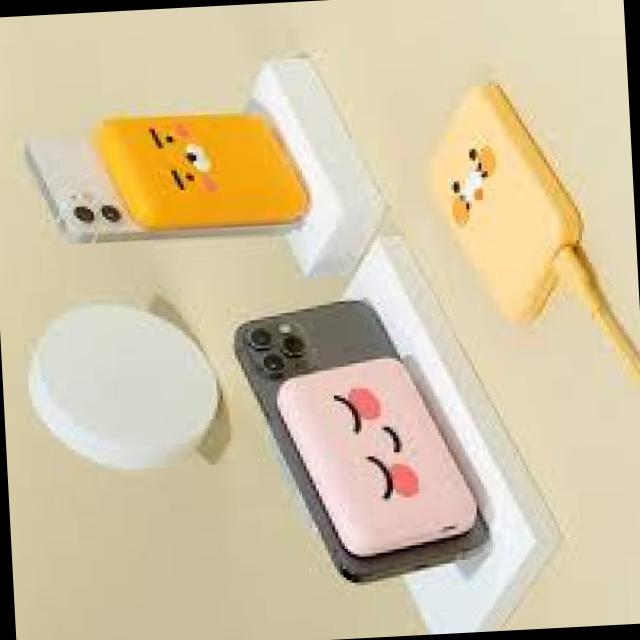power_bank: (277, 342, 484, 560), (422, 66, 586, 324), (96, 107, 312, 234)
